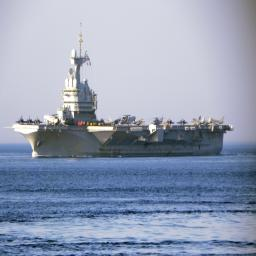Portanaves: (12, 24, 235, 160)
